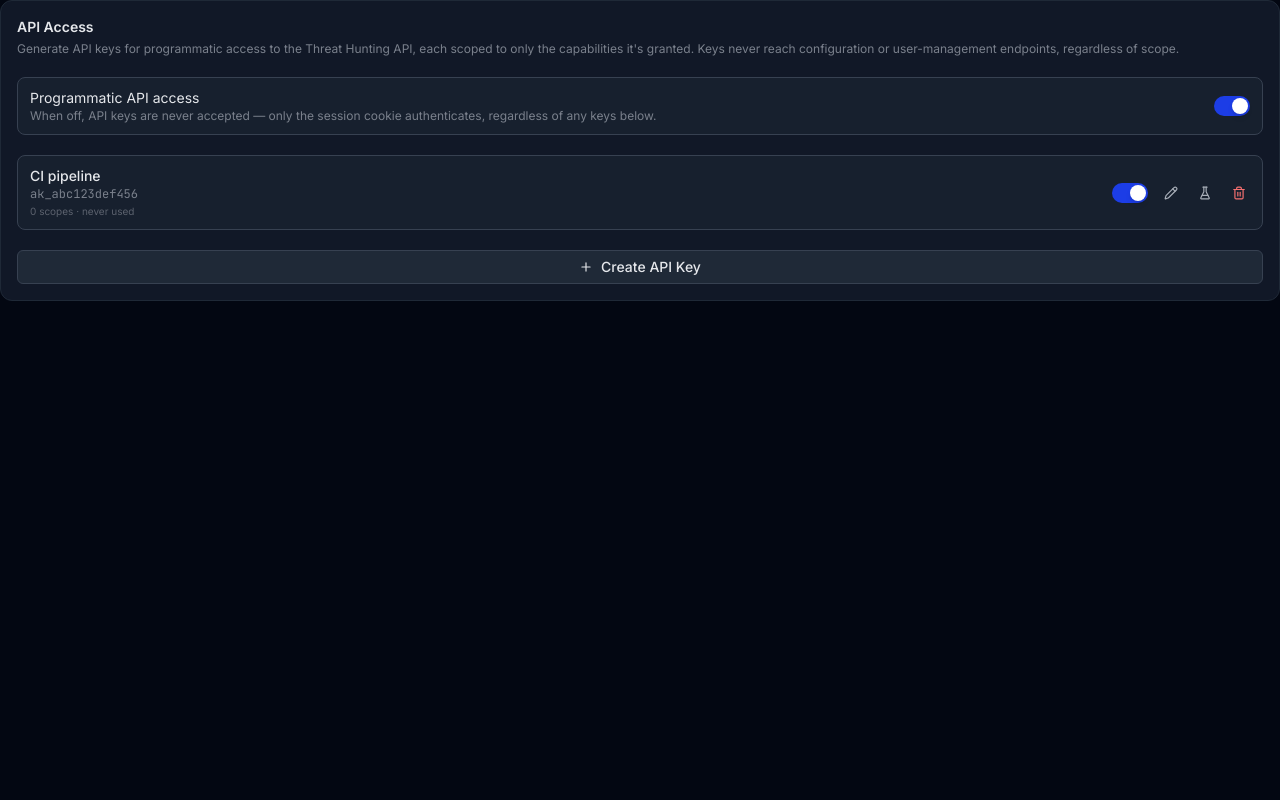
ApiAccessTab › "Use default profile" and "Select all" quick-picks work in the scope editor
Expected: the text "CI pipeline" is shown, 30,167 -> 101,184
Click the button titled "Edit scopes" at [1171, 192], box 1160,182 -> 1182,204
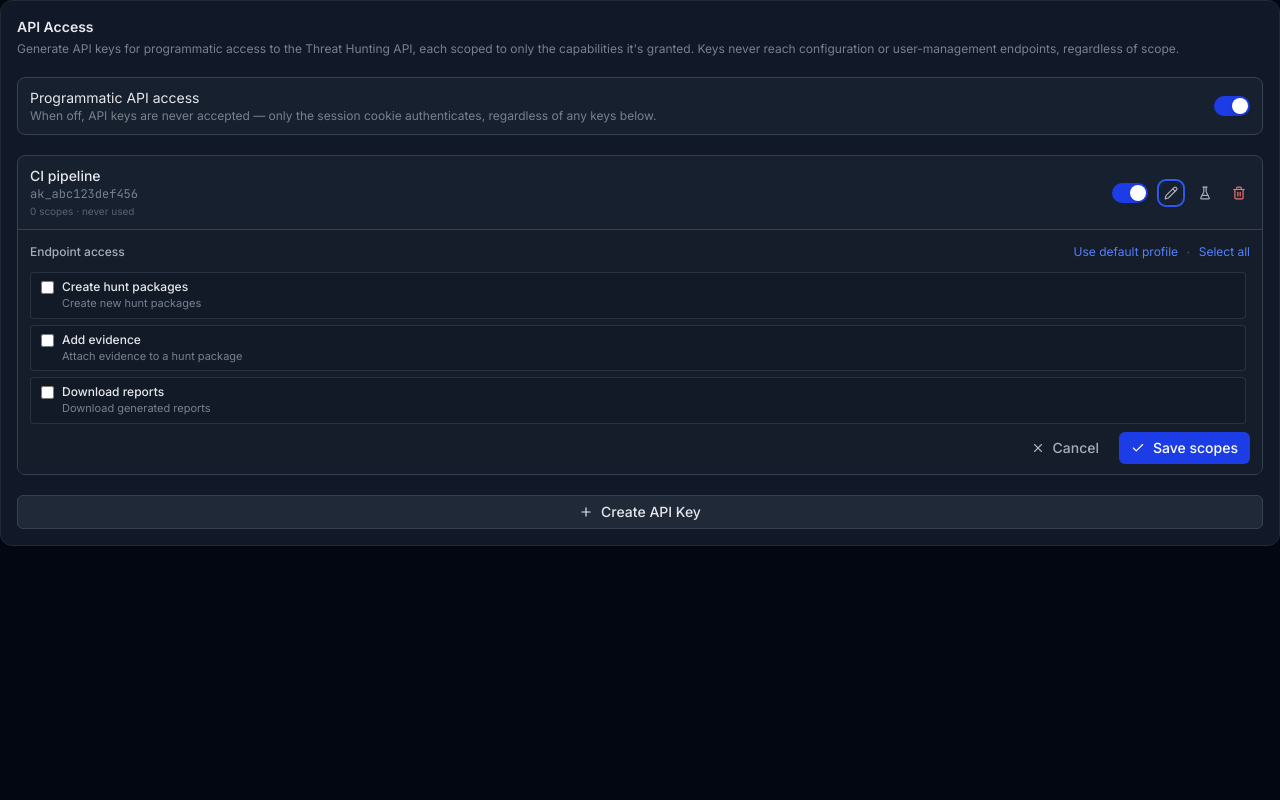
Click the button "Use default profile" at [1126, 252], box 1074,244 -> 1178,260
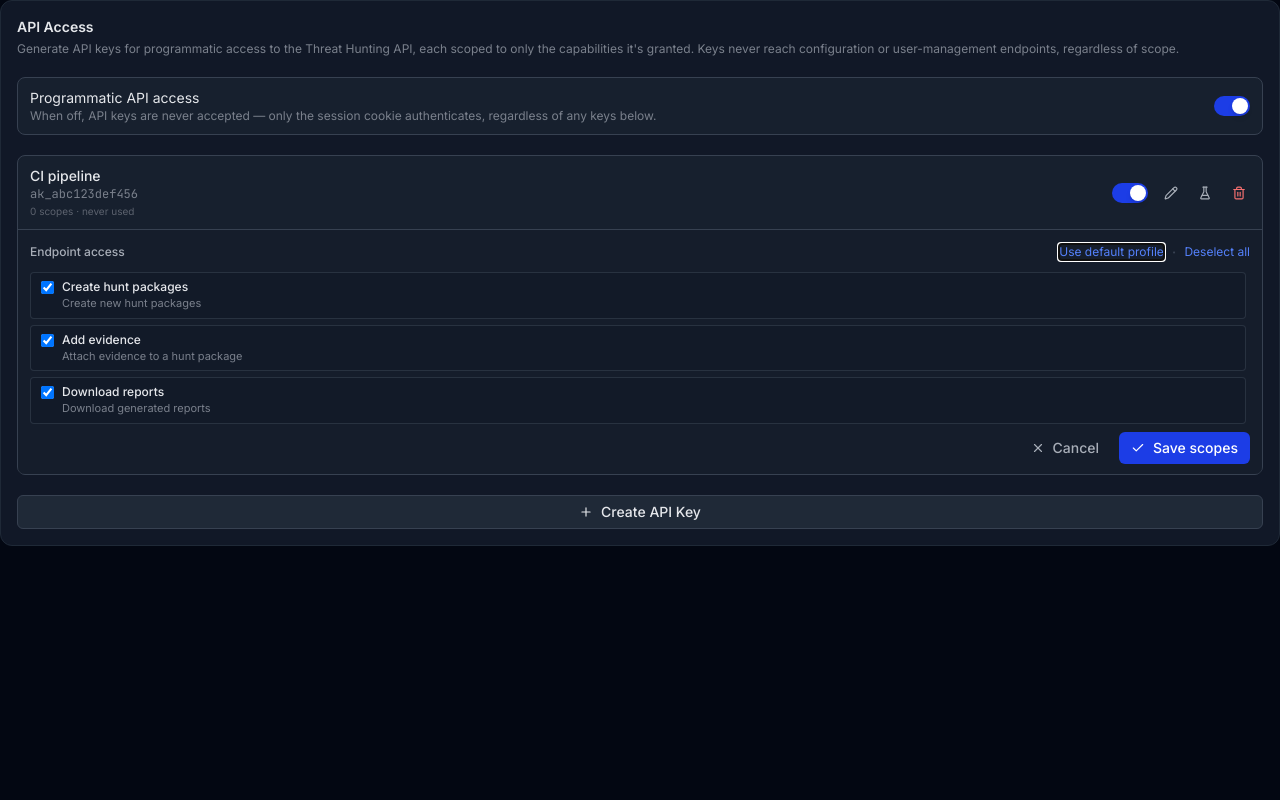
Now the checkbox labelled "Create hunt packages Create new hunt packages" is checked, box 41,281 -> 54,294
Now the checkbox labelled "Add evidence Attach evidence to a hunt package" is checked, box 41,334 -> 54,346
Now the checkbox labelled "Download reports Download generated reports" is checked, box 41,386 -> 54,399
Click the button "Deselect all" at [1217, 252], box 1184,244 -> 1250,260
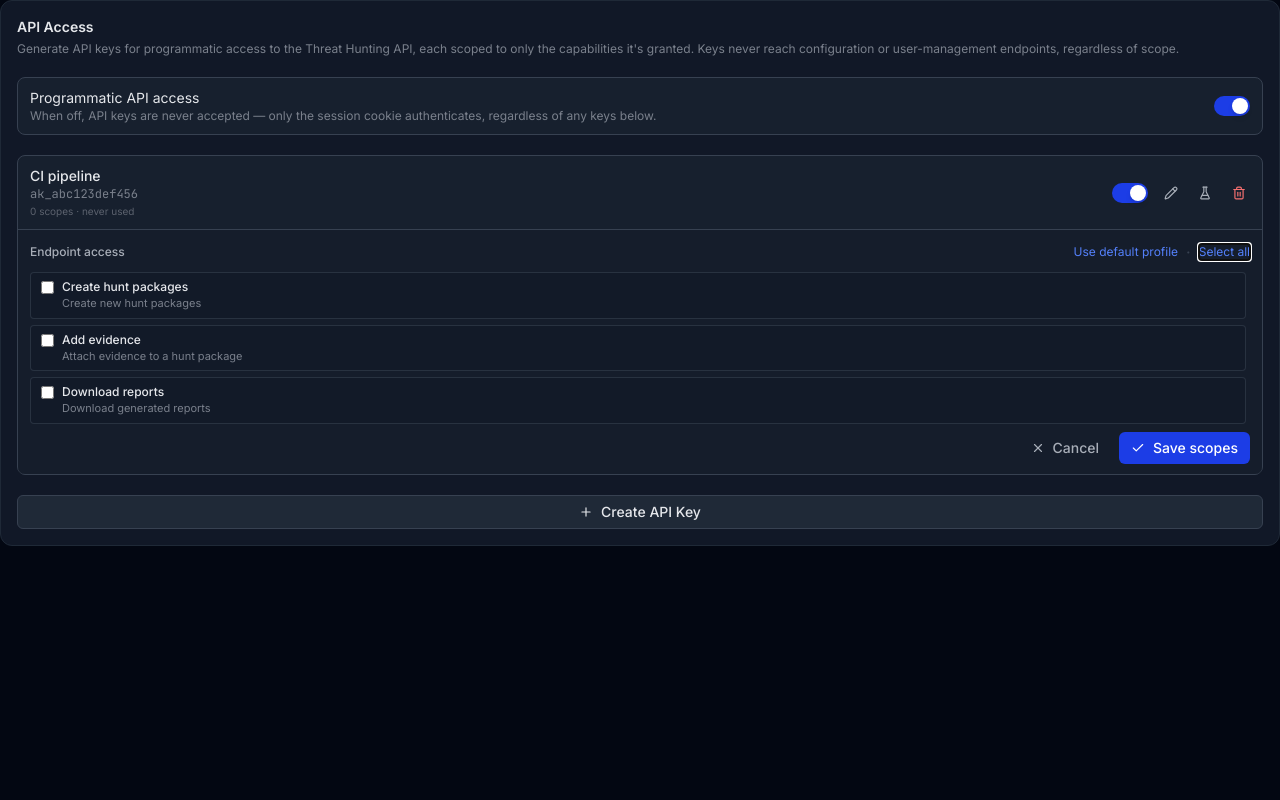
Now the checkbox labelled "Create hunt packages Create new hunt packages" is not checked, box 41,281 -> 54,294
Now the checkbox labelled "Add evidence Attach evidence to a hunt package" is not checked, box 41,334 -> 54,346
Now the checkbox labelled "Download reports Download generated reports" is not checked, box 41,386 -> 54,399
Click the button "Select all" at [1224, 252], box 1199,244 -> 1250,260
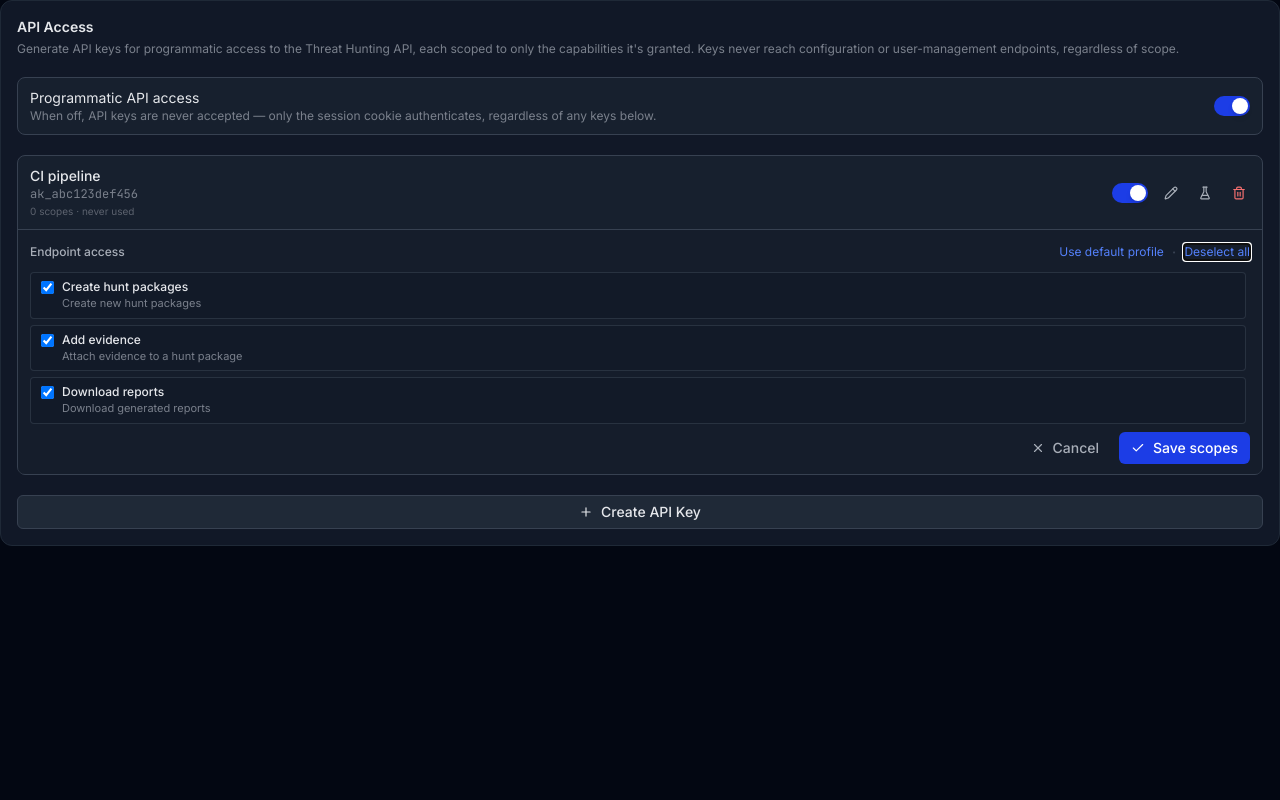
Now the checkbox labelled "Create hunt packages Create new hunt packages" is checked, box 41,281 -> 54,294
Now the checkbox labelled "Add evidence Attach evidence to a hunt package" is checked, box 41,334 -> 54,346
Now the checkbox labelled "Download reports Download generated reports" is checked, box 41,386 -> 54,399
